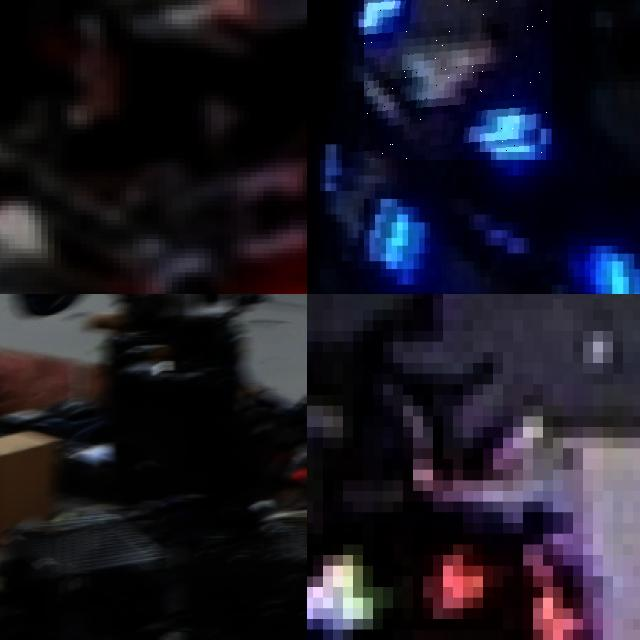B4: (364, 0, 551, 160), (307, 132, 419, 257), (573, 198, 640, 294)
